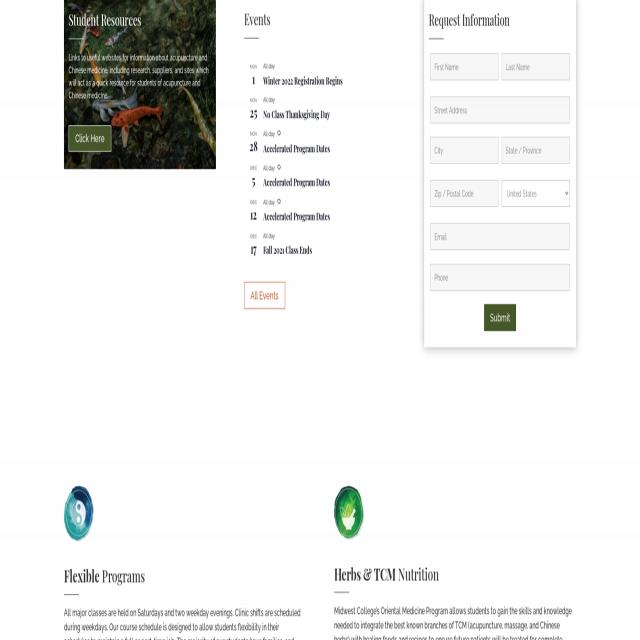button: (64, 486, 94, 542), (334, 486, 364, 540), (69, 125, 111, 151), (244, 282, 285, 308), (484, 304, 516, 330)
field: (430, 96, 570, 124), (430, 223, 570, 250), (430, 264, 570, 290), (502, 137, 570, 164), (502, 180, 570, 207), (502, 53, 570, 80), (431, 137, 498, 164), (431, 180, 498, 207), (431, 53, 498, 80)
